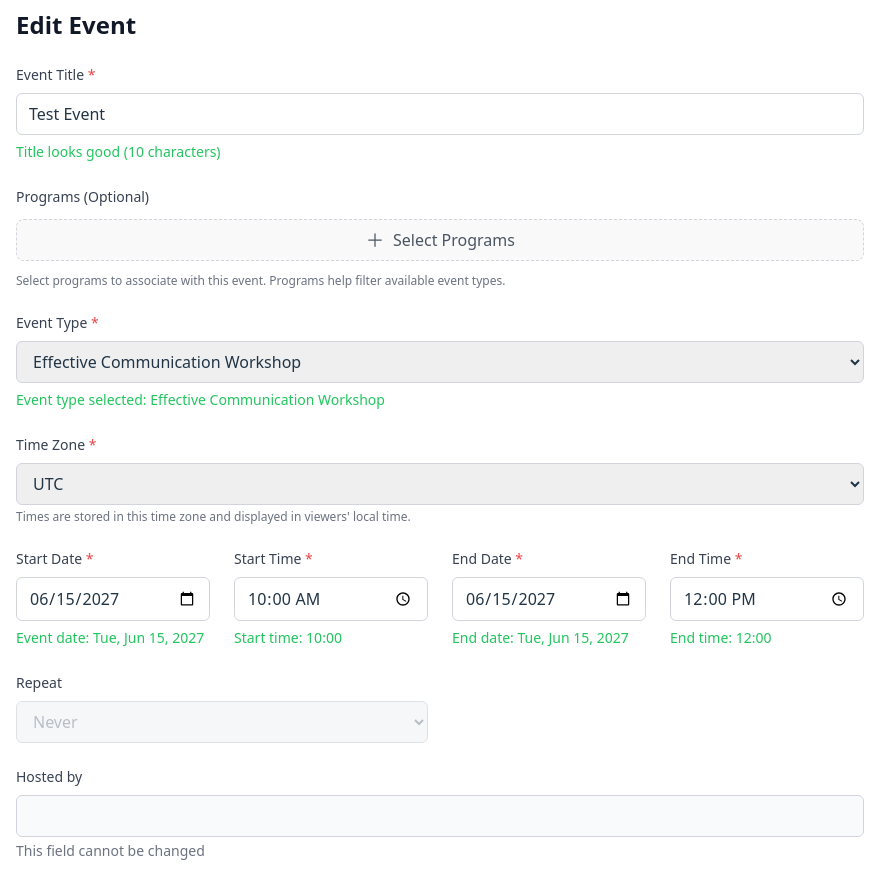
Test case: EditEvent - Field Update Bug Fixes › enables Update button only after notification chosen even if multiple fields edited
Note: Edit several fields
Replace the text in the field with placeholder "Enter event title" with "Test Event Bulk Edit" at (440,114), box [16,93,864,135]
(page scrolled)
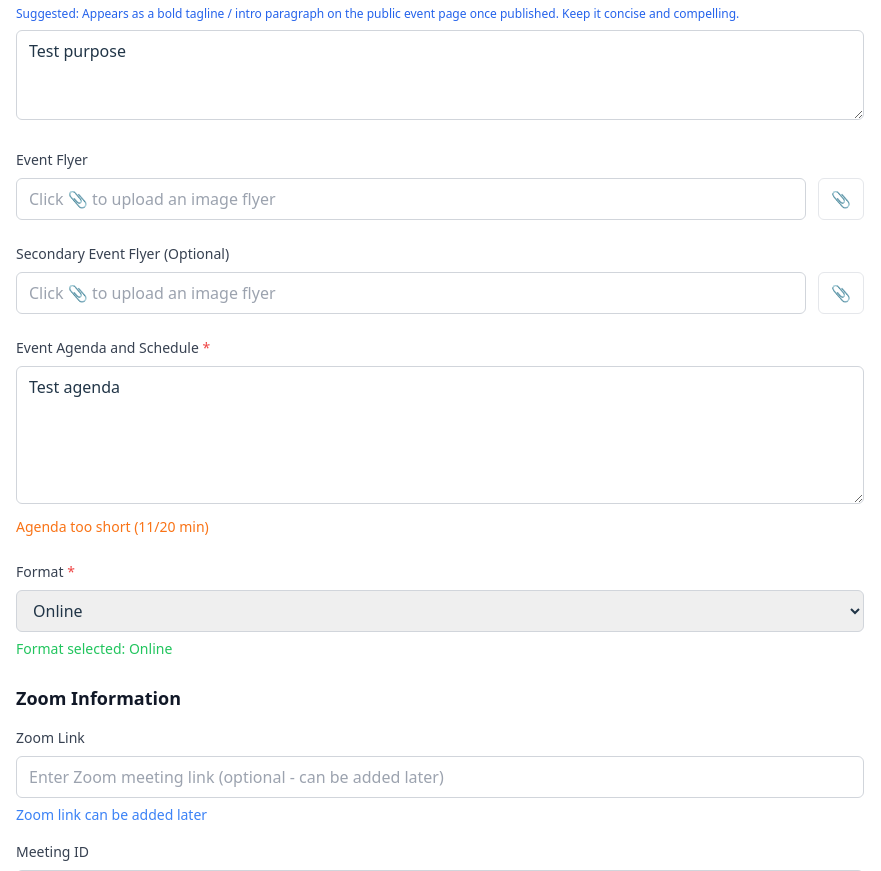
Replace the text in the text box labelled "Event Agenda and Schedule *" with "New agenda" at (440,435), box [16,366,864,504]
(page scrolled)
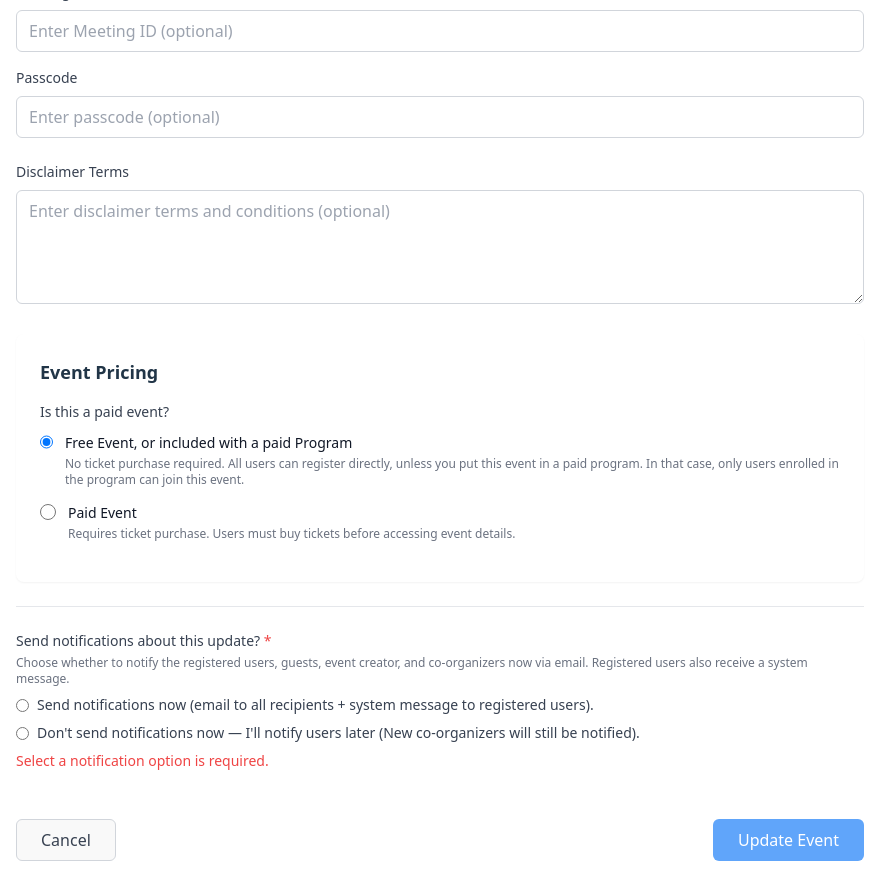
Expected: the button "Update Event" is disabled, [713,819,864,861]
Click the 4th radio button at (22,734), box [16,727,29,740]
(page scrolled)
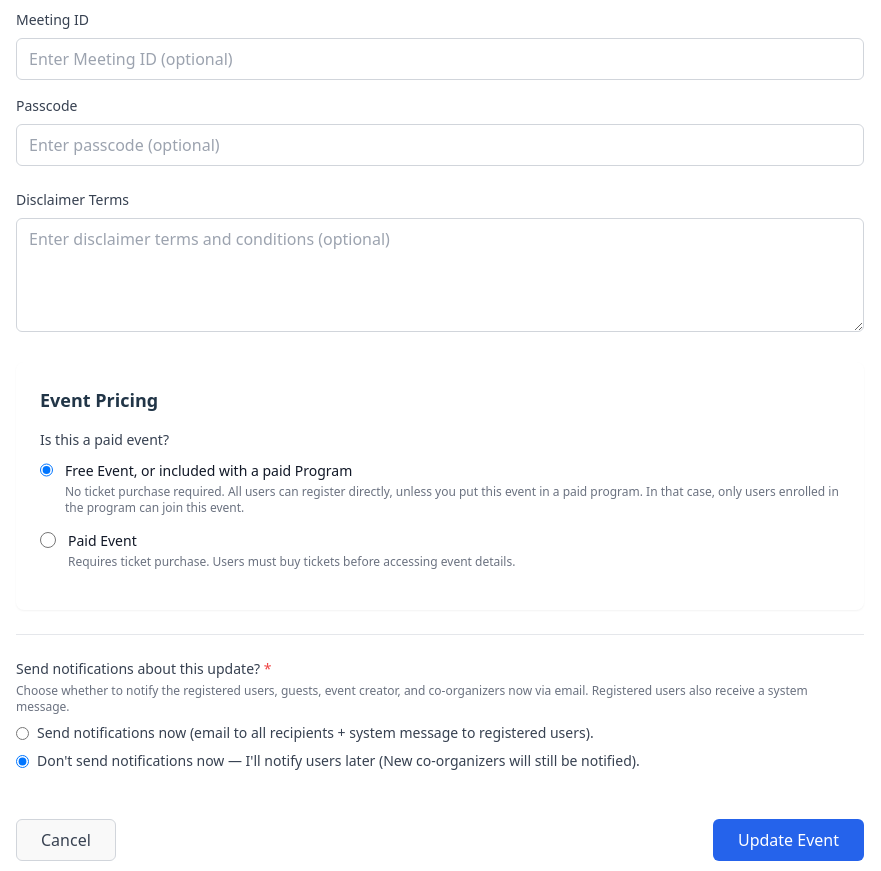
Now the button "Update Event" is enabled, box [713,819,864,861]
